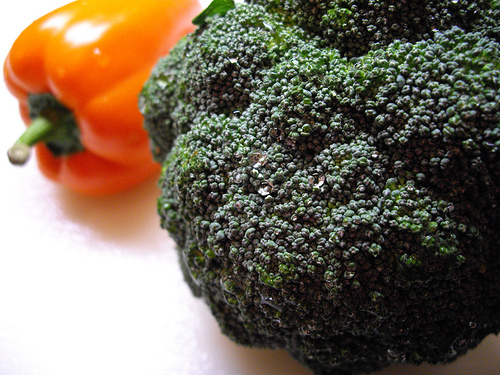broccoli: (139, 1, 498, 374)
